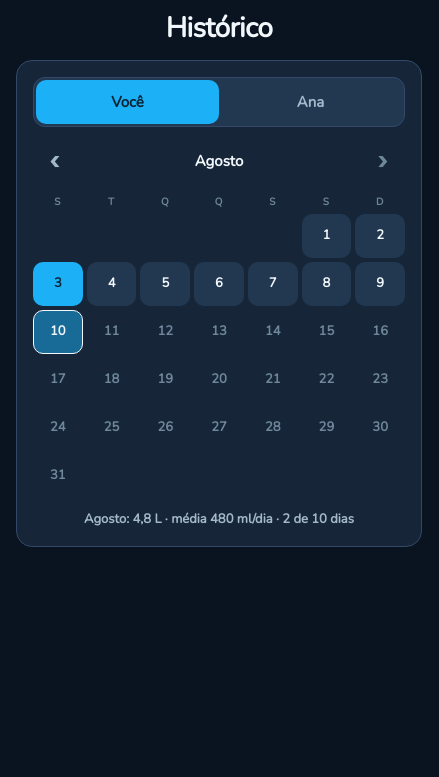
Test: Historico › opens a day detail with both totals and the rows
The image size is (439, 777).
Click the button named "segunda, 10 de agosto · 1,8 L" at [58, 332], box [33,310,83,354]
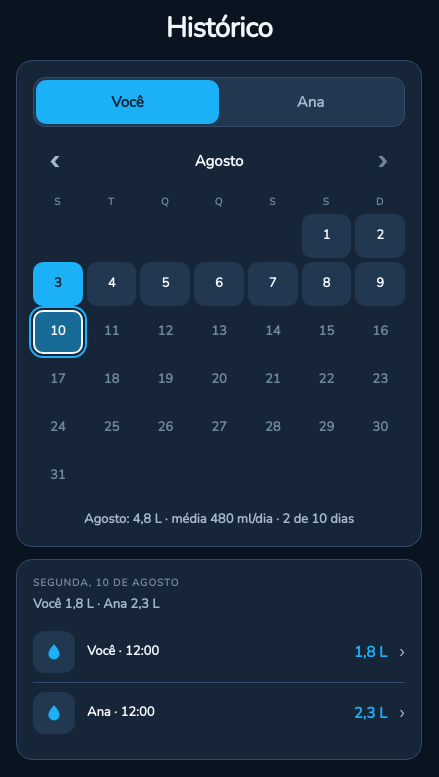
Now the text "Você 1,8 L · Ana 2,3 L" is shown, box [33,594,159,612]
Now the text "Ana · 12:00" is shown, box [87,703,155,721]
